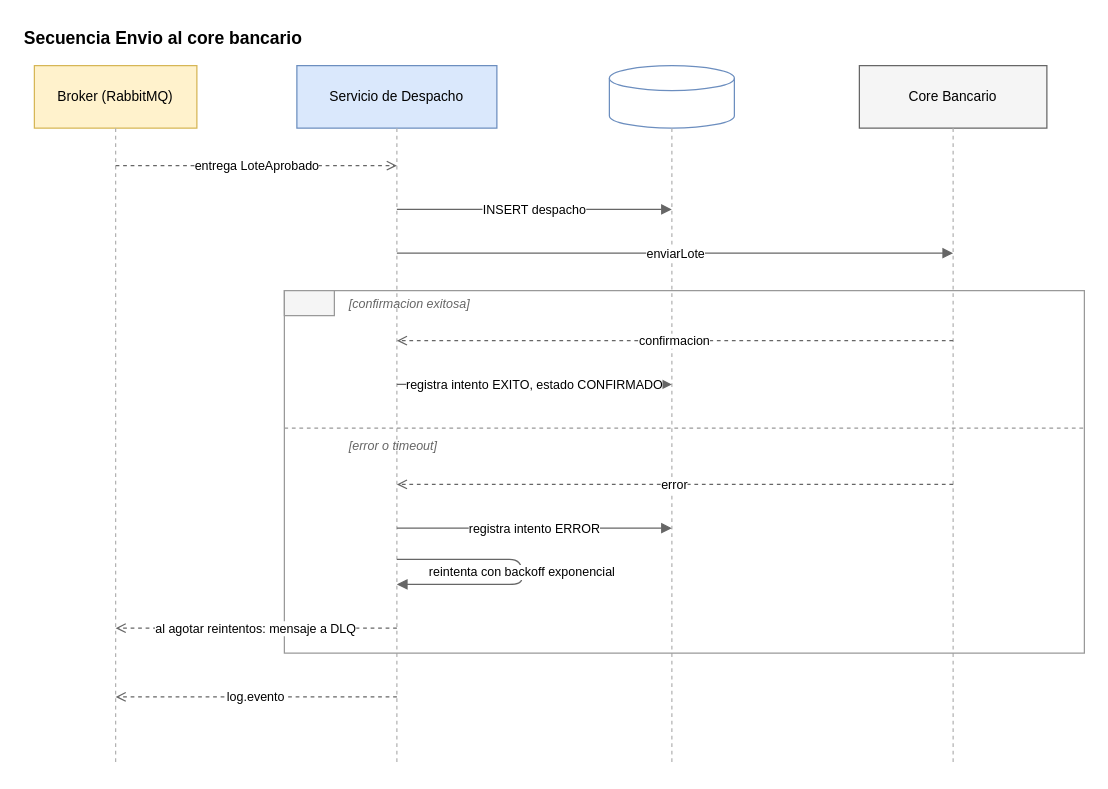
Some shapes in this 1108 by 789 pixel diagram are drawn without their labels. The centre of each missing label's shape, as x and y in pixels:
"alt" belongs at (x=308, y=302).
"BD Despachos" belongs at (x=671, y=96).
